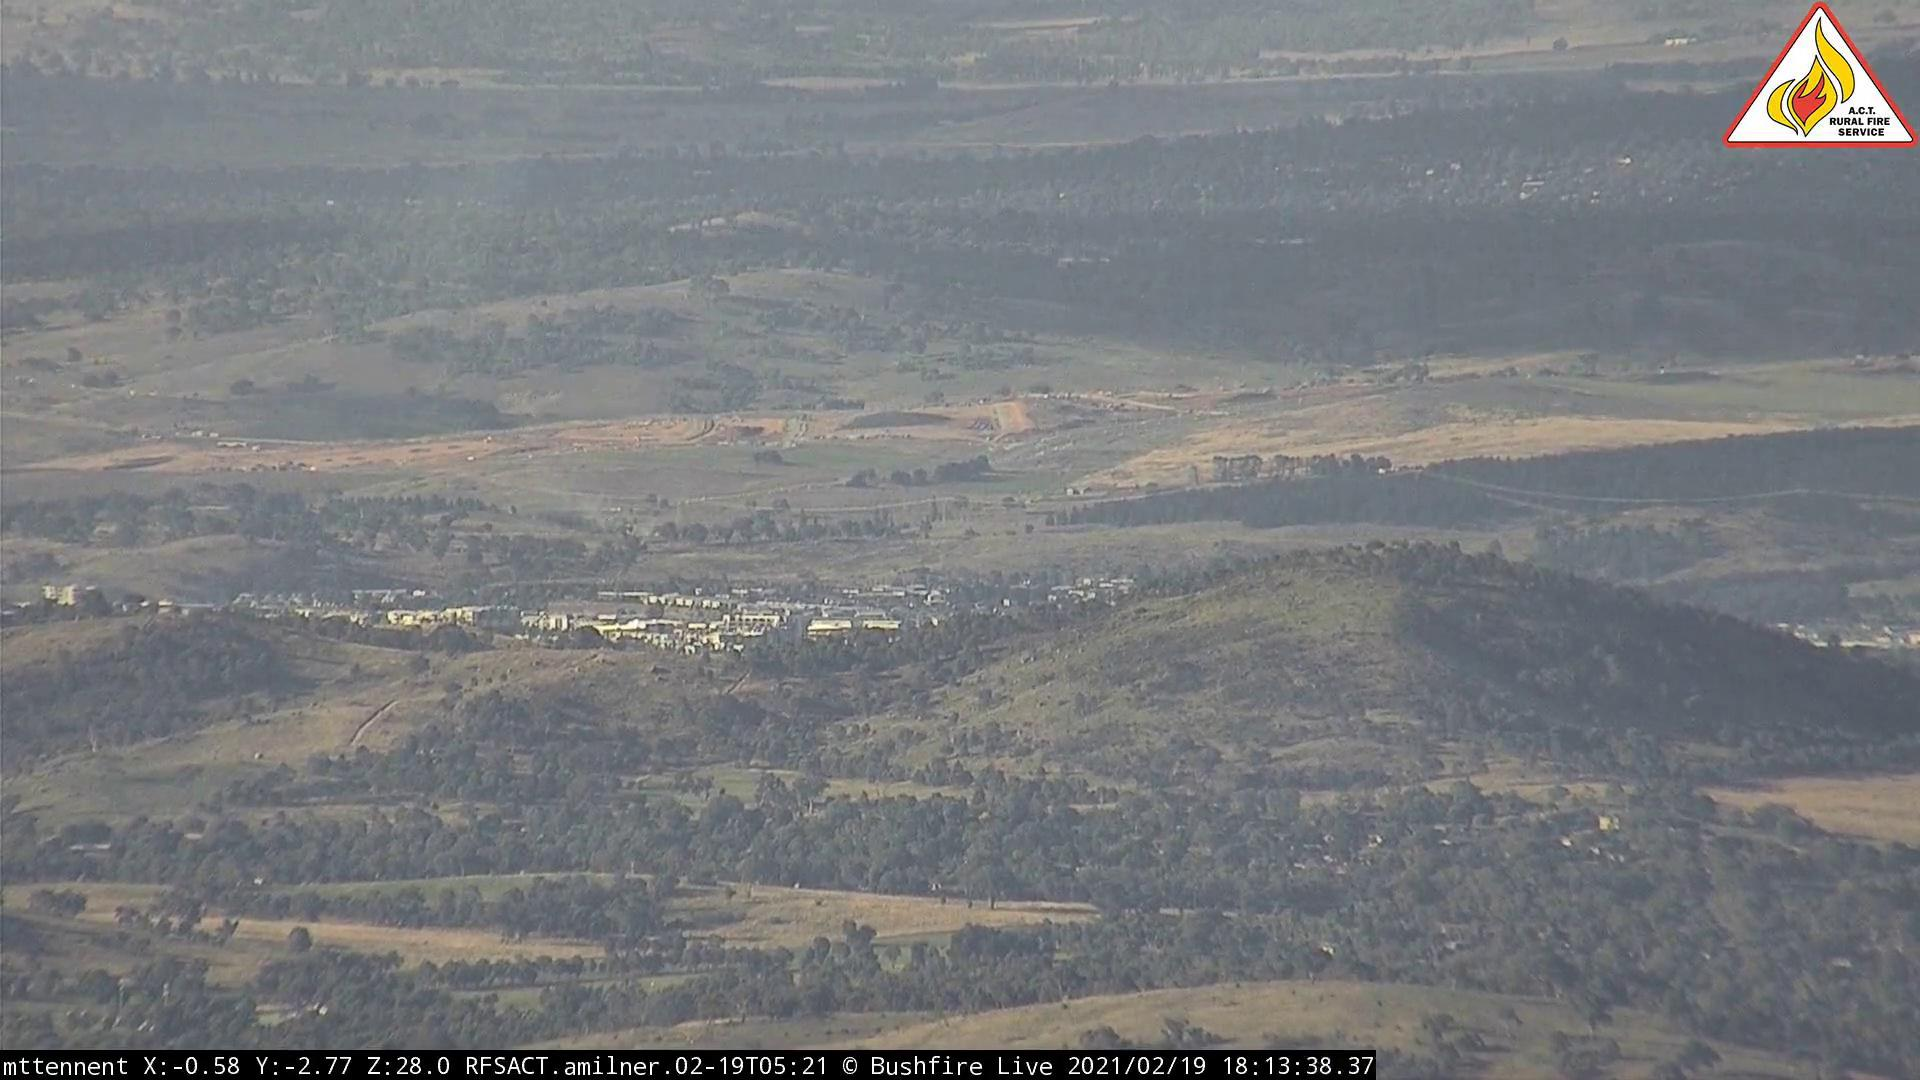instance_salient_object: (599, 504, 662, 559)
